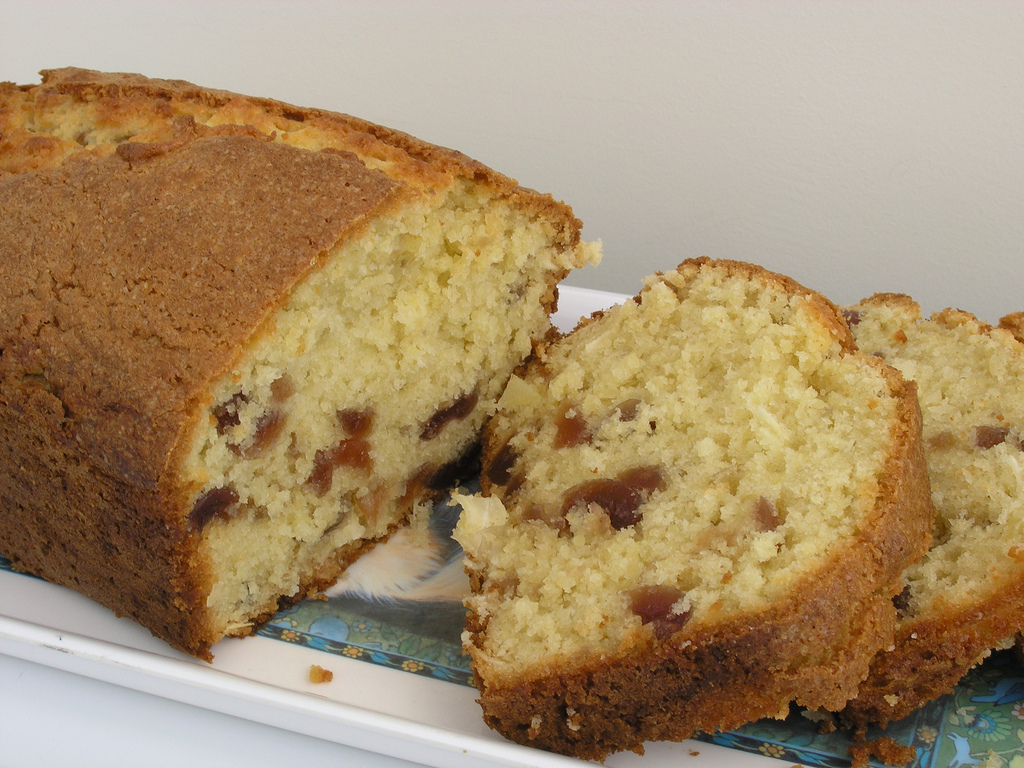slice of bread: (455, 261, 942, 748), (810, 253, 1024, 746)
